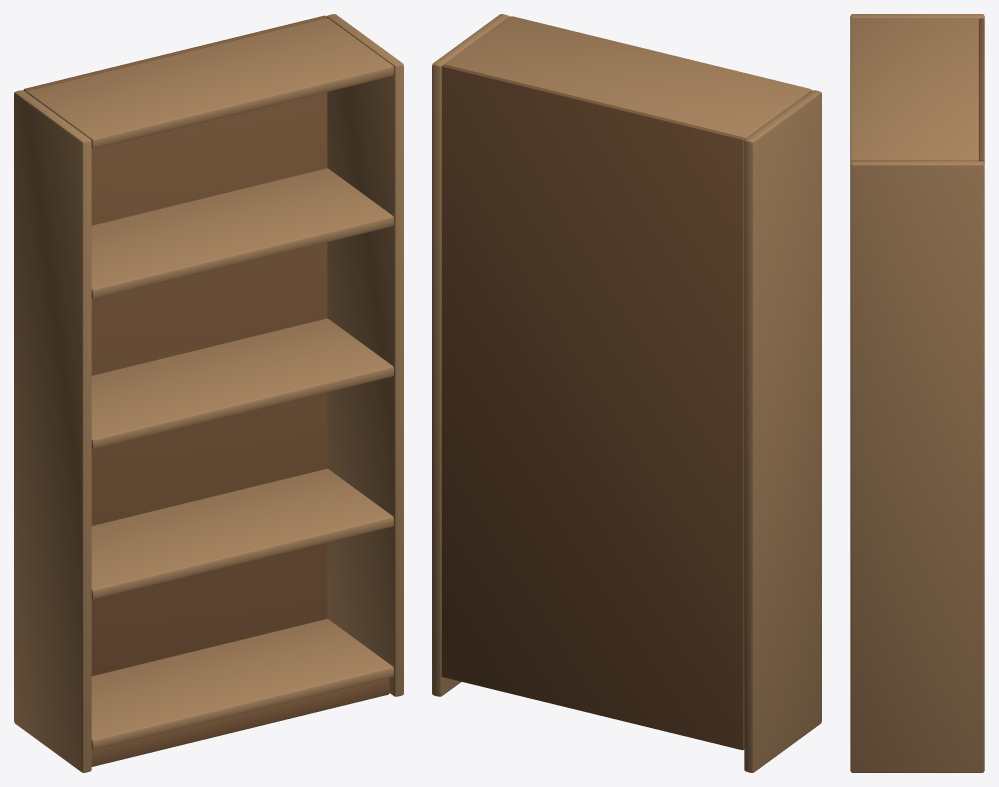
File: shelf.glb
The picture shows the model from 3 angles, left to right: view 1: azimuth 30°, elevation 25°; view 2: azimuth 150°, elevation 25°; view 3: azimuth 270°, elevation 25°; orthographic projection. The views are drawn at different scales.
Visible parts, largest first — view 1: shelf; view 2: shelf; view 3: shelf.
Boxes of the visible parts, <box> form: shelf: <box>14,14,403,772</box>; shelf: <box>432,14,821,772</box>; shelf: <box>850,14,984,772</box>.
Bounding box in the file's own units: 0.8001 × 1.5 × 0.2999.
